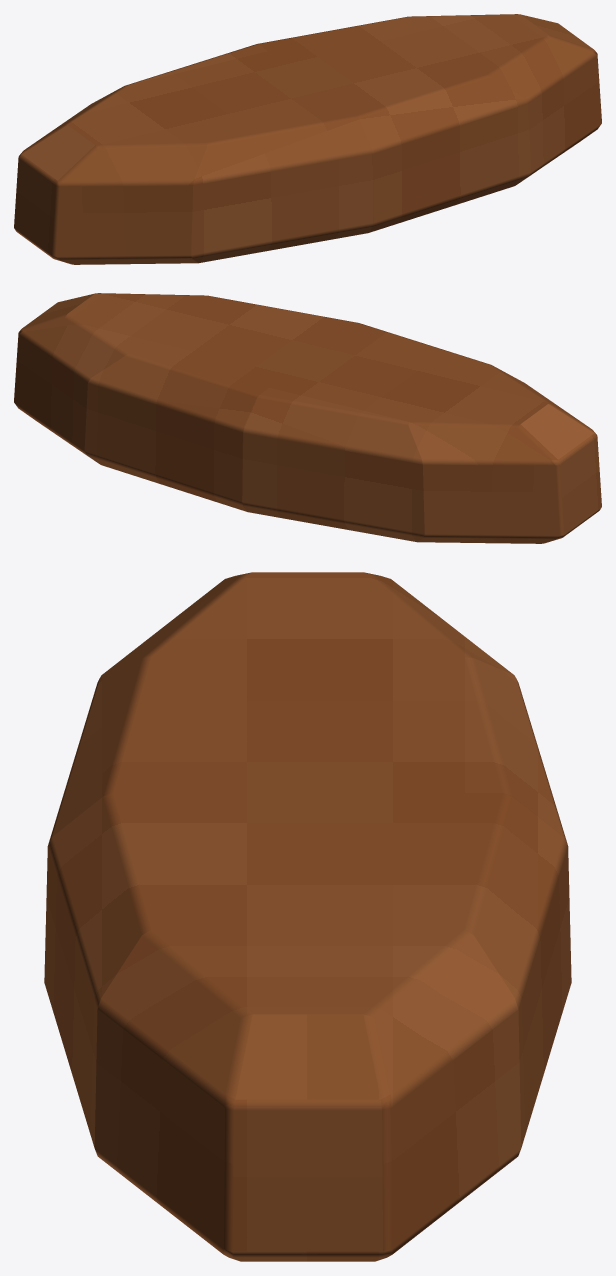
Rendered from Beech-back.glb.
3 views of the same model, one above another, from view 1: azimuth 30°, elevation 25°; view 2: azimuth 150°, elevation 25°; view 3: azimuth 270°, elevation 25° (orthographic). The views are drawn at different scales.
Visible parts, largest first — view 1: Beech-back; view 2: Beech-back; view 3: Beech-back.
Boxes of the visible parts, x1,y1,x2,y2 form: Beech-back: [14, 14, 601, 264]; Beech-back: [14, 293, 601, 543]; Beech-back: [44, 572, 571, 1261].
Bounding box in the file's own units: 0.3422 × 0.066 × 0.1419.
1 material, 1 textured.
